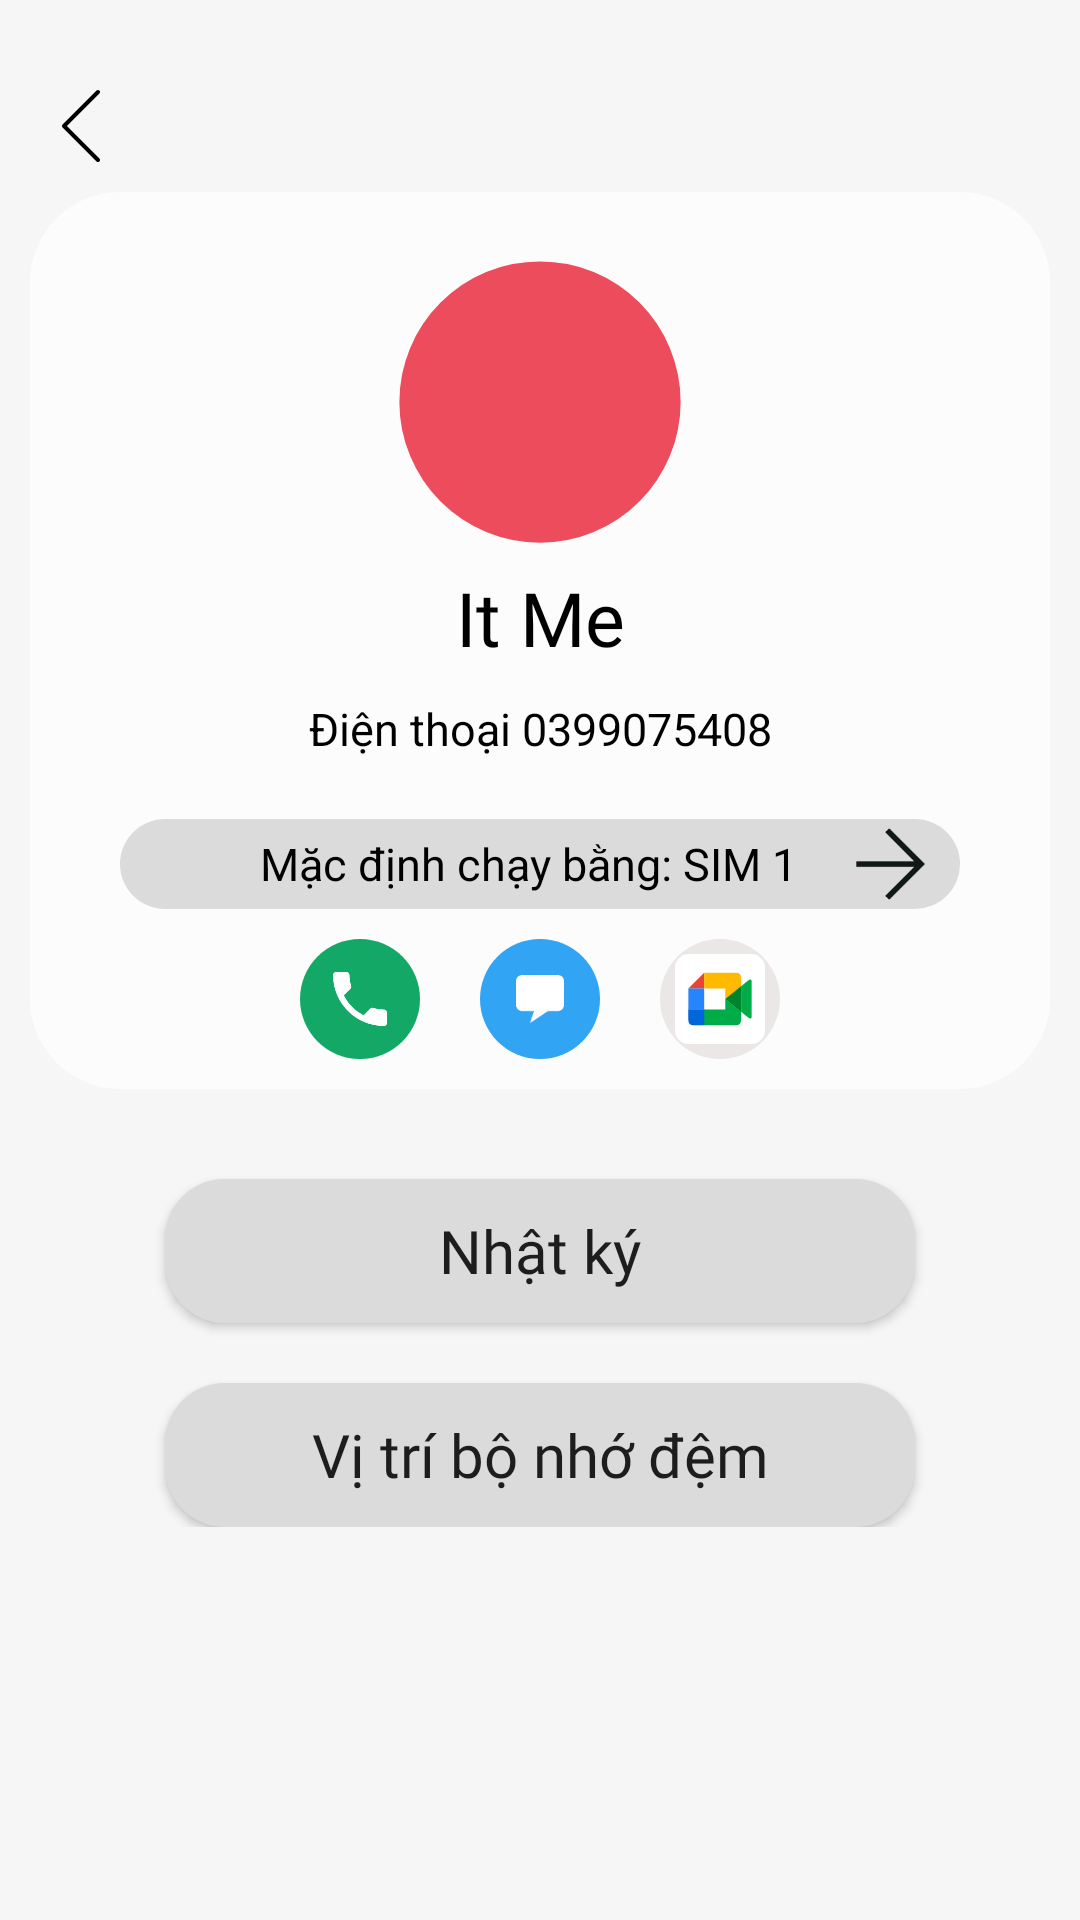

Screen size 1080w x 1920h. Icon name, then its center in pixels as (x=x, y=y):
backmsg: (x=81, y=126)
call: (x=360, y=999)
